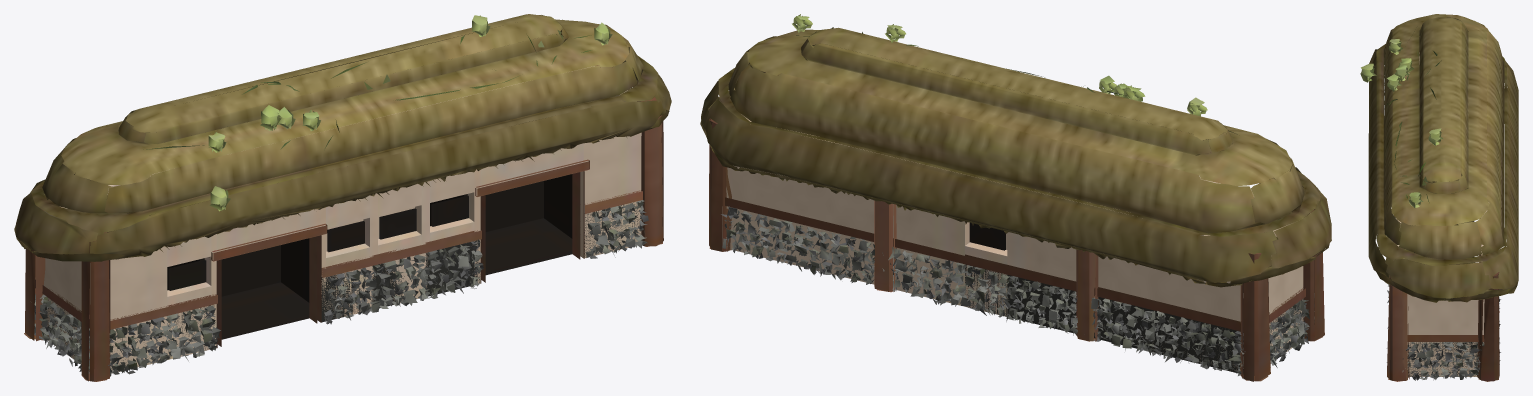
File: house-two-door_hd.glb
The picture shows the model from 3 angles, left to right: view 1: azimuth 30°, elevation 25°; view 2: azimuth 150°, elevation 25°; view 3: azimuth 270°, elevation 25°; orthographic projection. The views are drawn at different scales.
Visible parts, largest first — view 1: house_two_door; view 2: house_two_door; view 3: house_two_door.
Part boxes in pixels (box(x1,y1,x2,y2)): house_two_door: box(14, 14, 671, 381); house_two_door: box(700, 14, 1331, 381); house_two_door: box(1360, 14, 1518, 381).
Bounding box in the file's own units: 12.11 × 4.49 × 3.3.
1 material, 1 textured.
